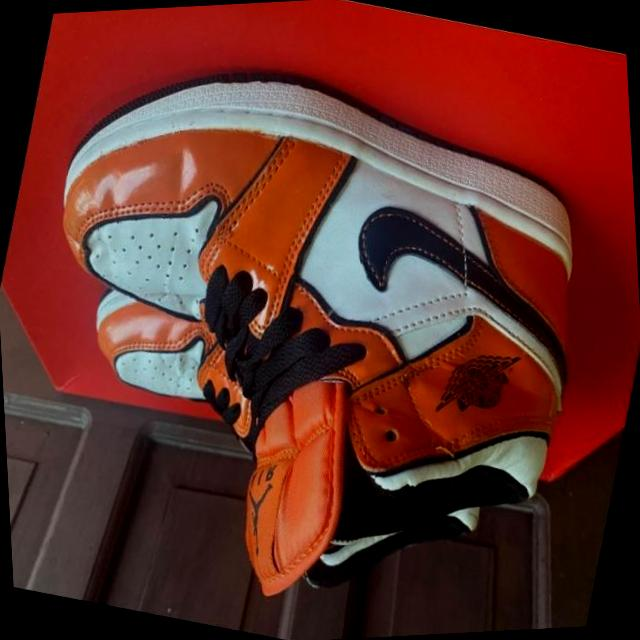nike_fake_jordan: (0, 7, 640, 640), (39, 266, 522, 633)
